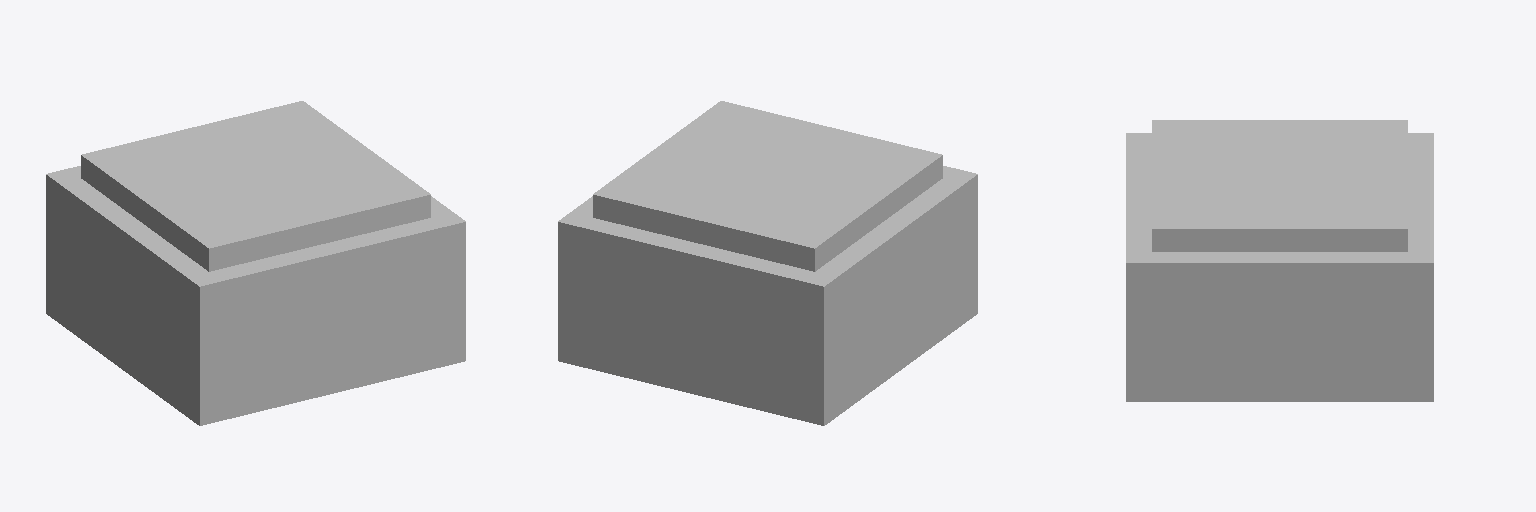
Rendered from room_2.obj.
3 views of the same model, side by side, from view 1: azimuth 30°, elevation 25°; view 2: azimuth 150°, elevation 25°; view 3: azimuth 270°, elevation 25° (orthographic).
Size of the model in its own units: 6 by 3.5 by 6.